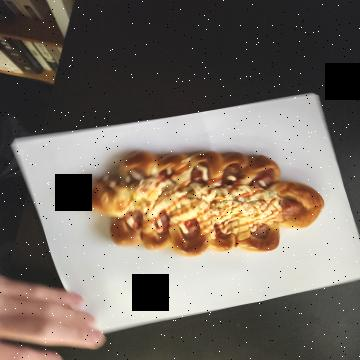pizza_bread: (147, 49, 256, 304)
